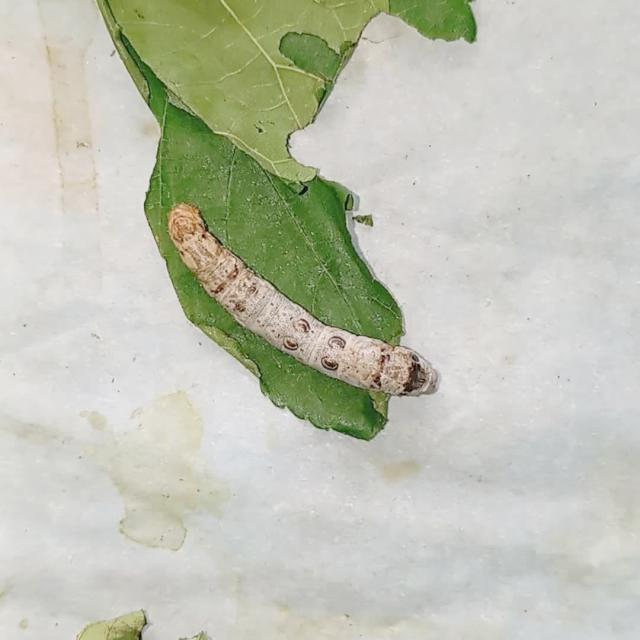Grasserie: (159, 192, 454, 417)
